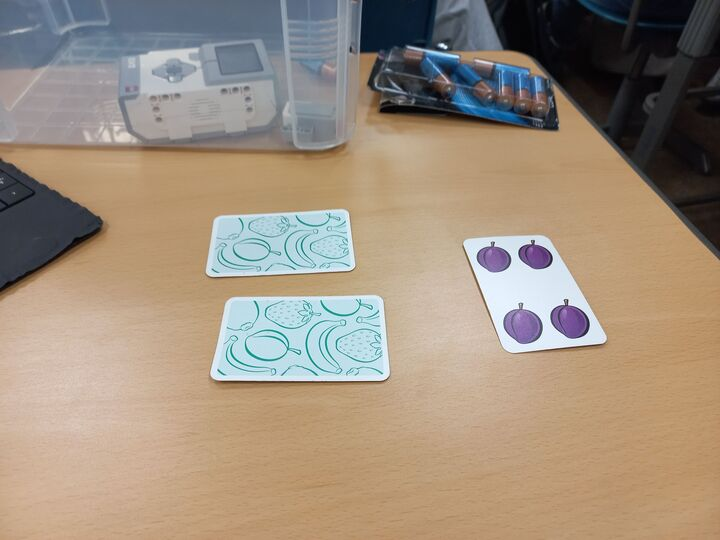plum4: (462, 234, 610, 353)
